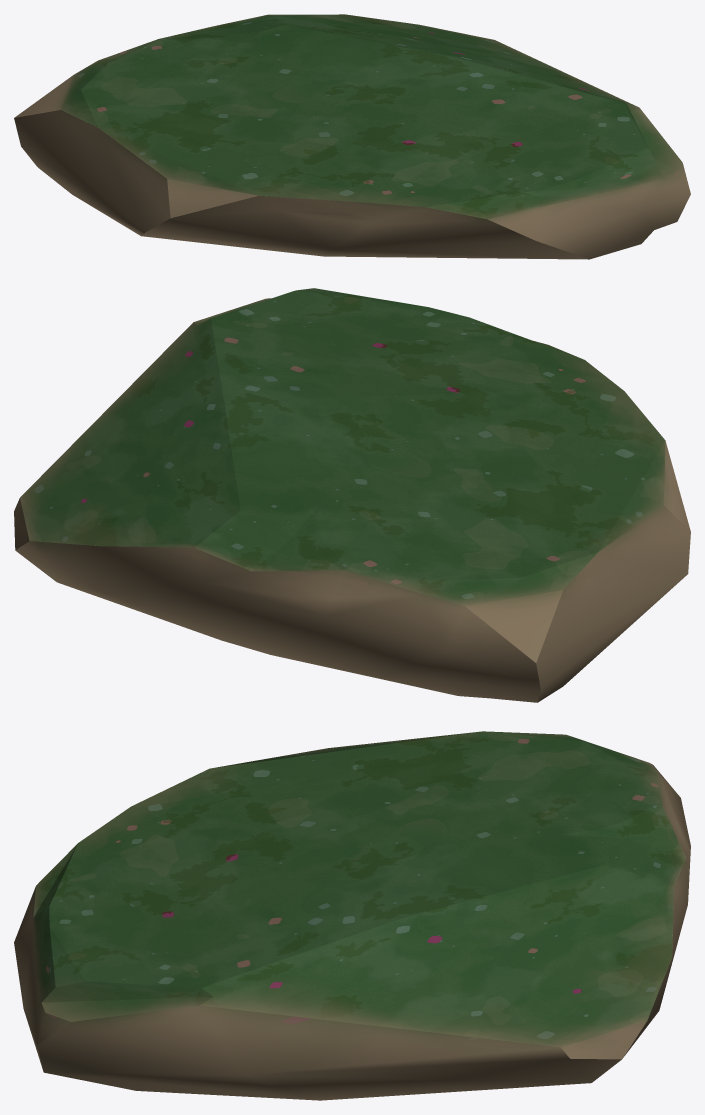
Rendered from Island_Rock_Medium.fbx.
3 views of the same model, one above another, from view 1: azimuth 30°, elevation 25°; view 2: azimuth 150°, elevation 25°; view 3: azimuth 270°, elevation 25° (orthographic). The views are drawn at different scales.
Visible parts, largest first — view 1: TFF_Rock_Medium_05A__1_; view 2: TFF_Rock_Medium_05A__1_; view 3: TFF_Rock_Medium_05A__1_.
Boxes of the visible parts, <box> form: TFF_Rock_Medium_05A__1_: <box>14,14,690,259</box>; TFF_Rock_Medium_05A__1_: <box>14,288,690,702</box>; TFF_Rock_Medium_05A__1_: <box>14,731,690,1100</box>.
Bounding box in the file's own units: 1548 × 357 × 1492.
Materials: 1 (1 with a texture image).
